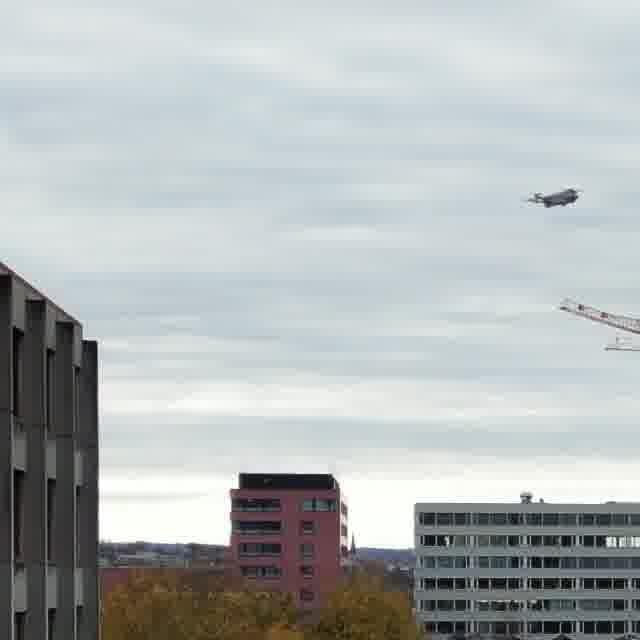Drohne: (525, 188, 582, 208)
